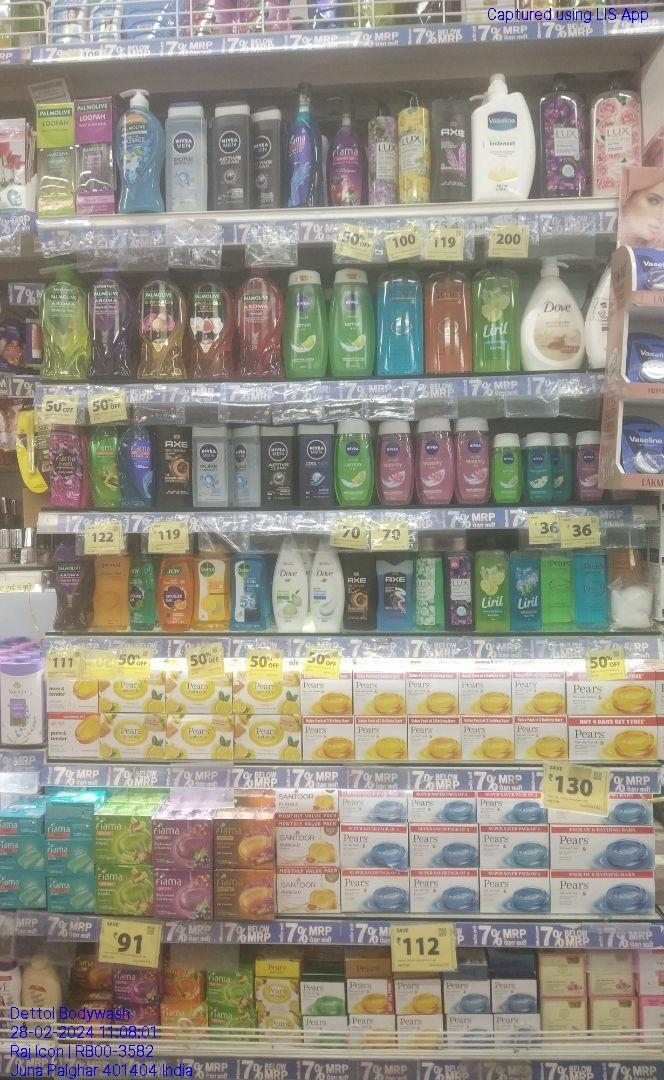Dettol_Bodywash_Cool: (231, 538, 269, 632)
Dettol_Bodywash_Refresh: (193, 541, 228, 631)
Dove_Gentle_Exfoliating_Body_Wash_250ML: (312, 537, 344, 633)
Dove_Refreshing_Body_Wash_250ML: (275, 538, 307, 632)
Fiama_Shower_Gel_Lemongrass_and_Jojoba_250ML: (89, 424, 124, 511)
Get_Real_Shower_Gel_Moisturising_Glycerin_300ML: (93, 555, 127, 634)
Joy_Shower_Gel_Mandarin_and_Lemongrass_250ML: (158, 553, 192, 634)
Joy_Shower_Gel_Mint_and_Eucalyptus_250ML: (130, 548, 156, 634)
Liril_Cooling_Mint_Body_Wash_250ML: (509, 541, 541, 633)
Liril_Lime_and_Tea_Tree_Oil_Body_Wash_250ML: (475, 534, 505, 633)
Lux_Black_Orchid_Scent_and_Juniper_Oil_Body_Wash_245ML: (444, 536, 474, 632)
Lux_Body_Wash_Skin_Detox_Freesia_Scent_and_Alove_Vera_245ML: (415, 535, 441, 633)
Nivea_Shower_Gel_Lemon_and_Oil_250ML: (330, 267, 373, 377), (285, 267, 327, 377), (334, 416, 373, 508)
Nivea_Shower_Gel_Waterlily_and_Oil_250ML: (415, 416, 454, 506), (376, 417, 412, 506), (456, 418, 492, 504)
Palmolive_Aroma_Relax_250ML: (52, 542, 87, 633)
Pears_Pure_Glycerin_and_Lemon_Flower_Extracts_Body_Wash_250ML: (542, 551, 571, 632)
Pears_Pure_Glycerin_and_Mint_Extracts_Body_Wash_250ML: (573, 552, 609, 626)
